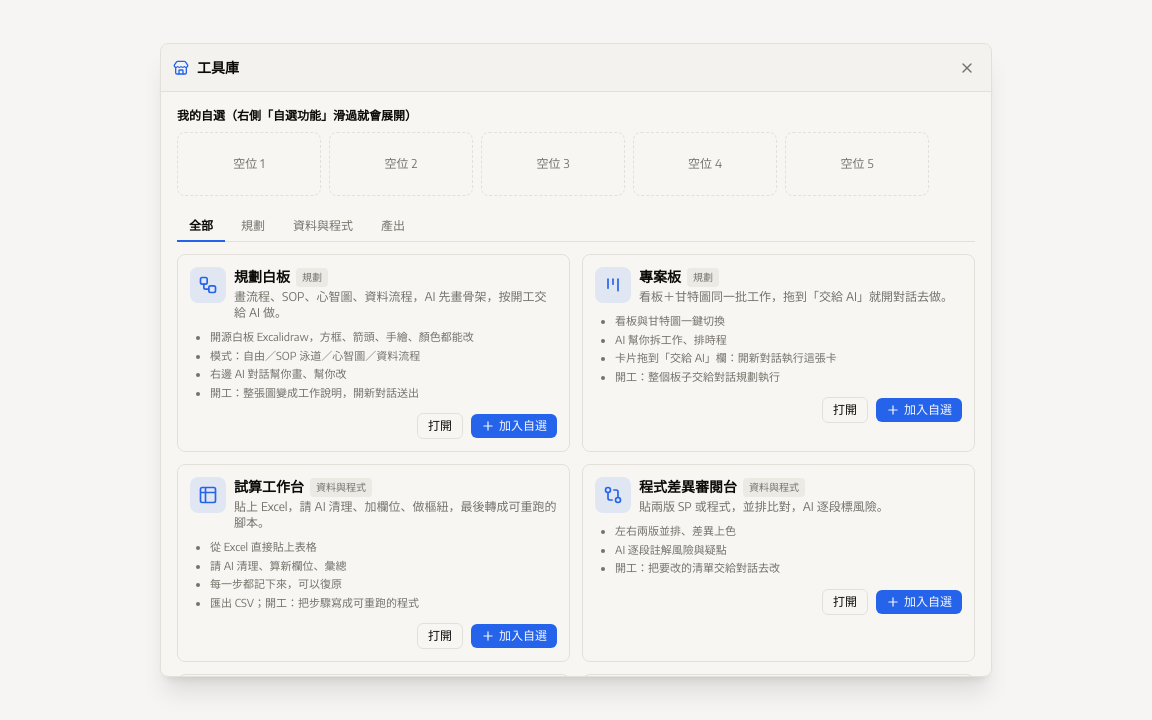
Scenario: a full set of slots says so instead of adding
Click the button "加入自選" below "開工：整張圖變成工作說明，開新對話送出" at {"x": 514, "y": 426}, box [471,414,557,438]
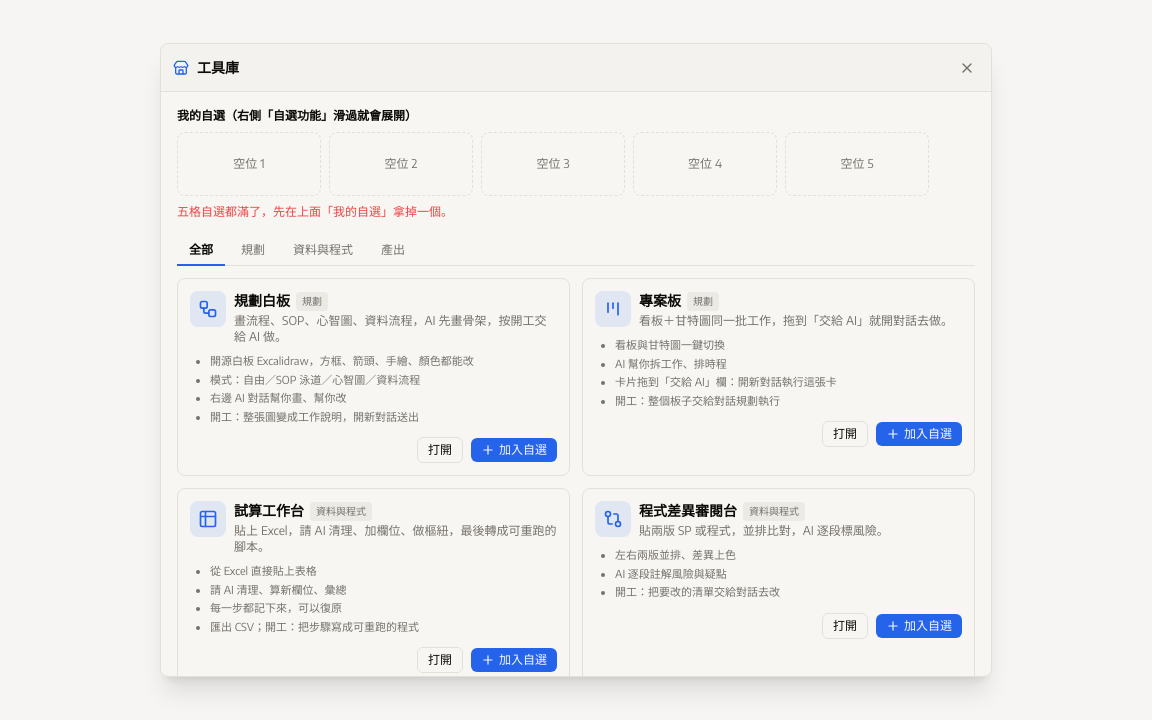
Expected: the text "五格自選都滿了，先在上面「我的自選」拿掉一個。" is shown, [177,204,453,219]
